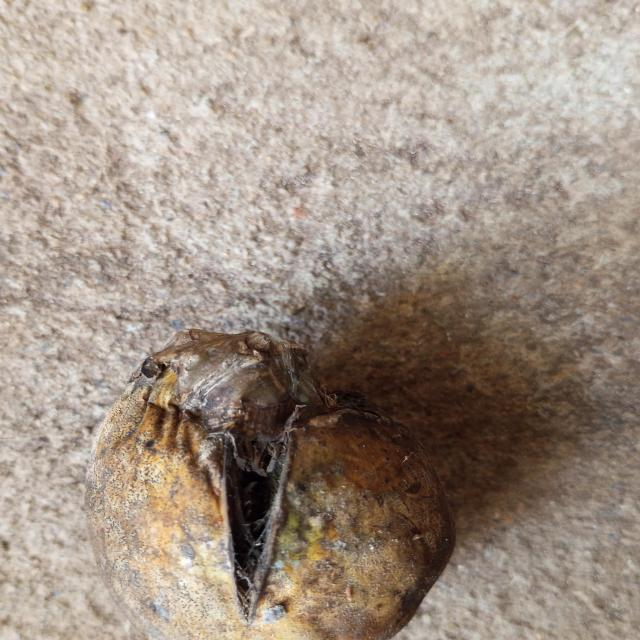damaged: (85, 329, 455, 640)
